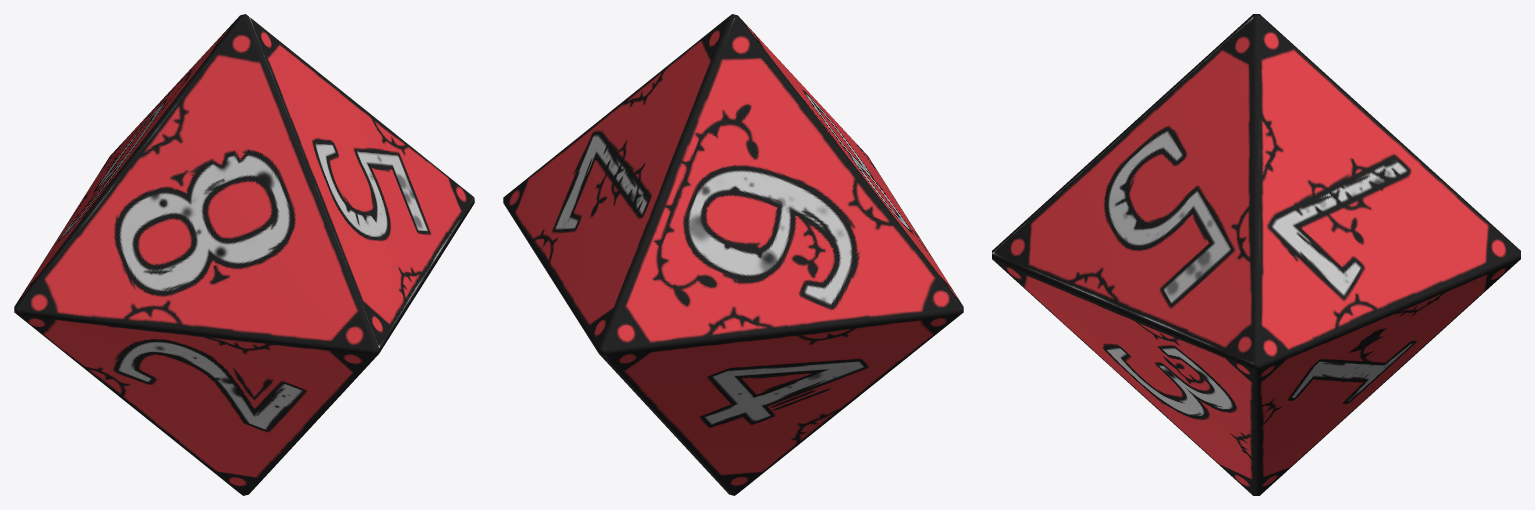
File: d8-carrion.glb
3 renders of one model, left to right at view 1: azimuth 30°, elevation 25°; view 2: azimuth 150°, elevation 25°; view 3: azimuth 270°, elevation 25°, orthographic.
Visible parts, largest first — view 1: Mesh_0; view 2: Mesh_0; view 3: Mesh_0.
Part boxes in pixels (box(x1,y1,x2,y2)): Mesh_0: box(14, 14, 474, 495); Mesh_0: box(503, 14, 963, 495); Mesh_0: box(992, 14, 1520, 495).
Size of the model in its own units: 196 by 196 by 196.
Materials: 1 (1 with a texture image).
